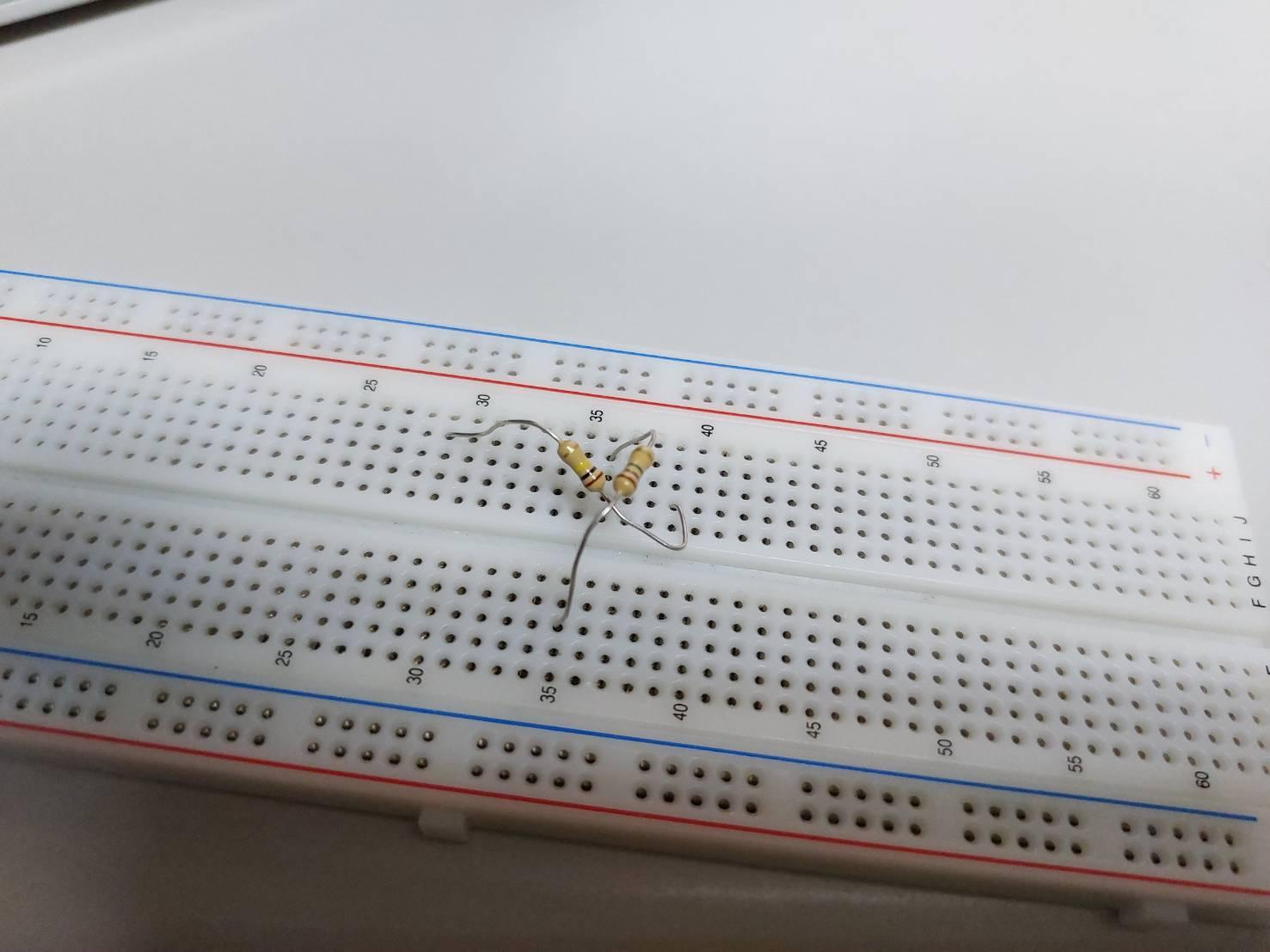resistor: (558, 437, 606, 491), (615, 444, 653, 498)
